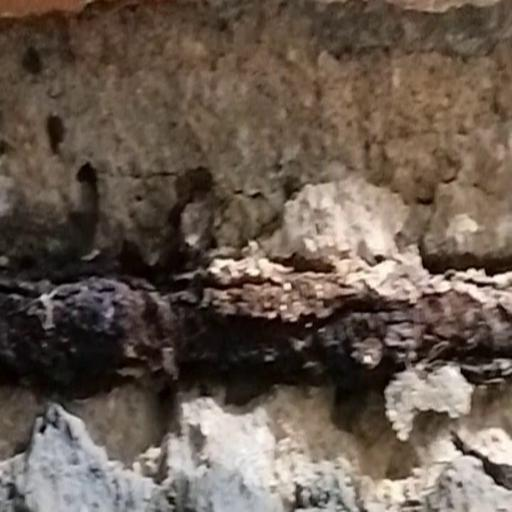spalling: (2, 0, 512, 503)
